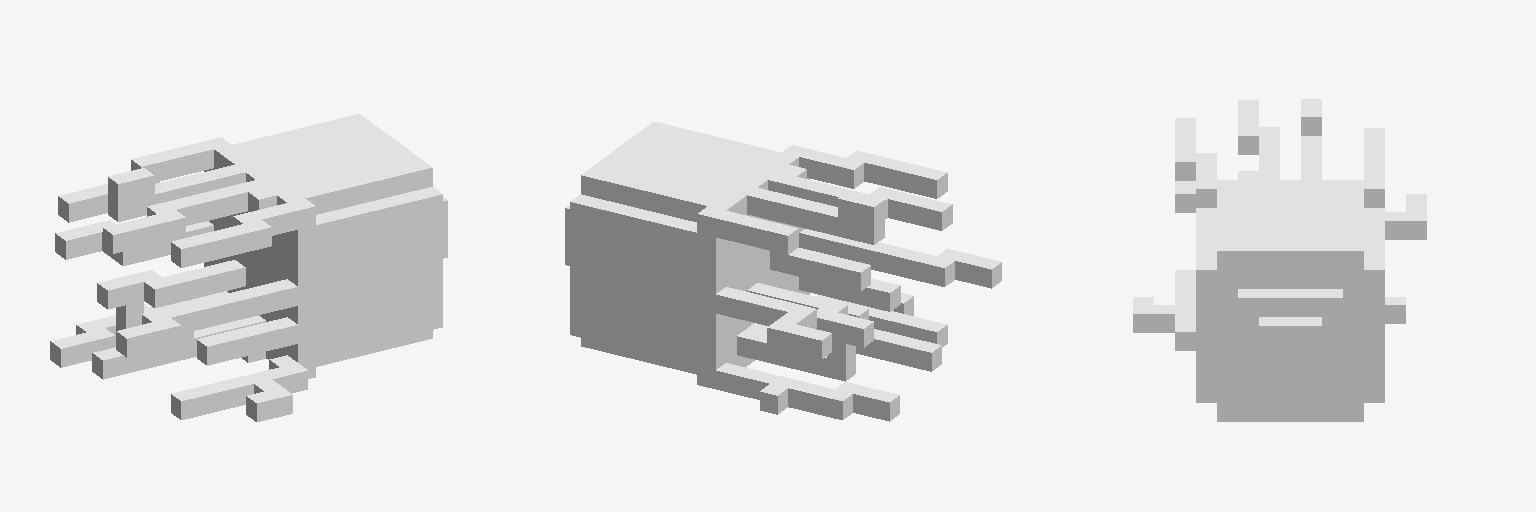
File: eyeball.obj
3 views of the same model, side by side, from view 1: azimuth 30°, elevation 25°; view 2: azimuth 150°, elevation 25°; view 3: azimuth 270°, elevation 25° (orthographic).
Size of the model in its own units: 20 by 10 by 14.